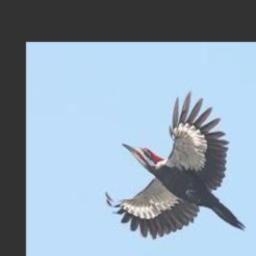Woodpecker: (105, 90, 246, 238)
